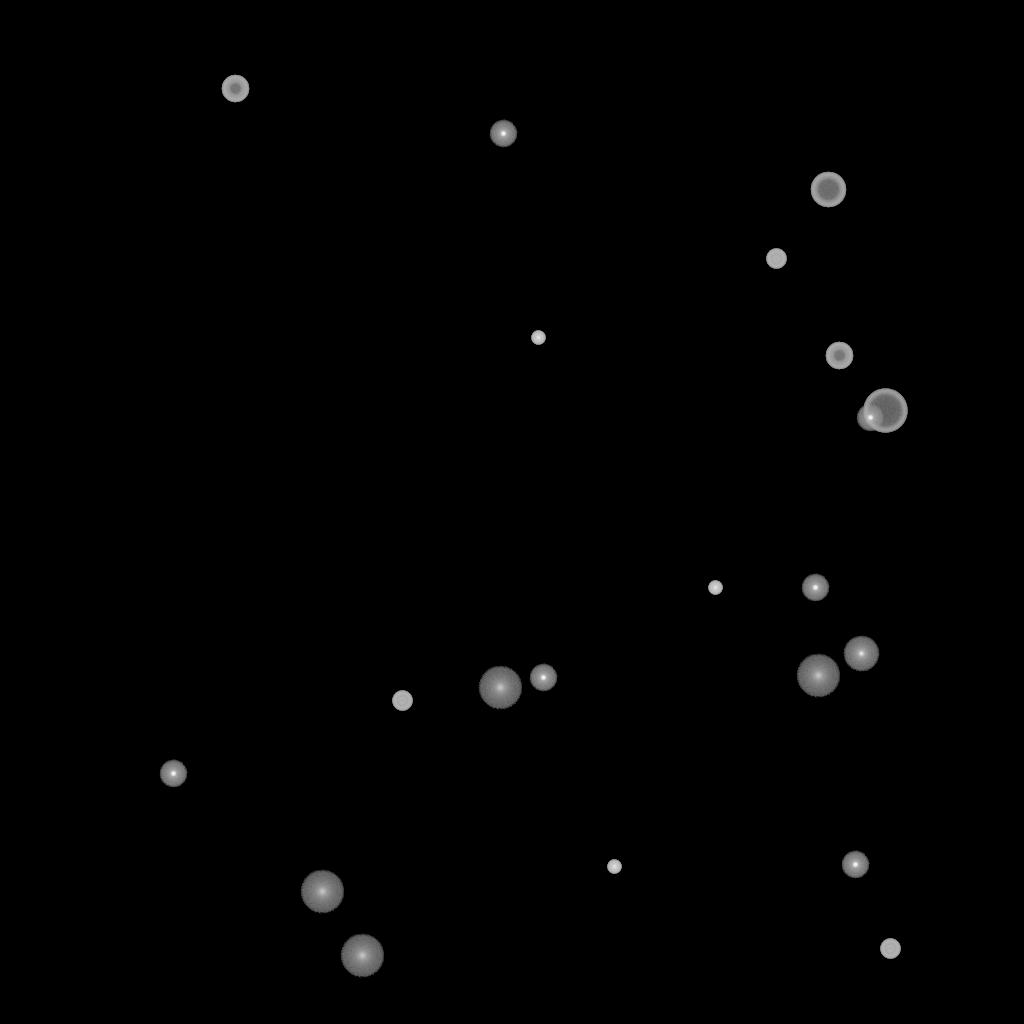depth:-10: (856, 404, 884, 432), (529, 664, 557, 692), (159, 760, 187, 788), (801, 574, 829, 602), (489, 120, 517, 148), (841, 851, 869, 879)
depth:-30: (708, 581, 722, 595), (607, 860, 621, 874), (531, 331, 545, 345)
depth:-40: (392, 691, 412, 711), (880, 939, 900, 959), (766, 249, 786, 269)
depth:-50: (221, 75, 249, 103), (825, 342, 853, 370)
depth:-60: (810, 172, 846, 208)
depth:-70: (863, 389, 907, 433)
depth:0: (843, 636, 879, 672)
depth:10: (478, 666, 522, 710), (300, 870, 344, 914), (340, 934, 384, 978), (796, 654, 840, 698)
